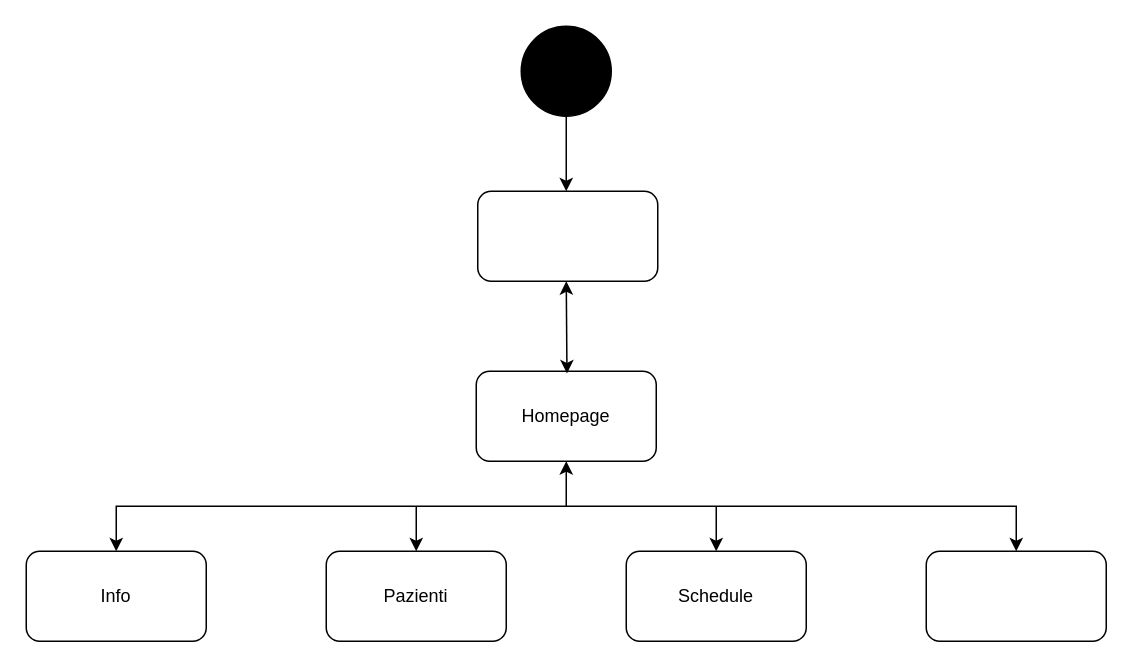
Image size: 1133x668. Some labels were removed from this diagram. The box of each missing label's shape, as (x1, y1, x2, y2) in pixels:
Login: (476, 190, 658, 281)
Profilo: (925, 550, 1106, 641)
